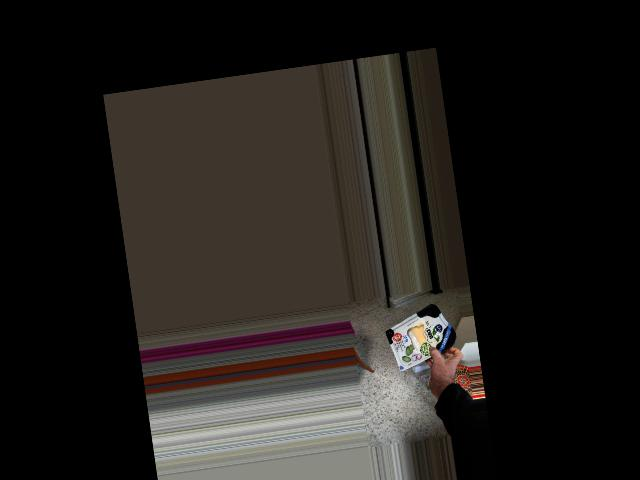cheese: (383, 305, 460, 362)
